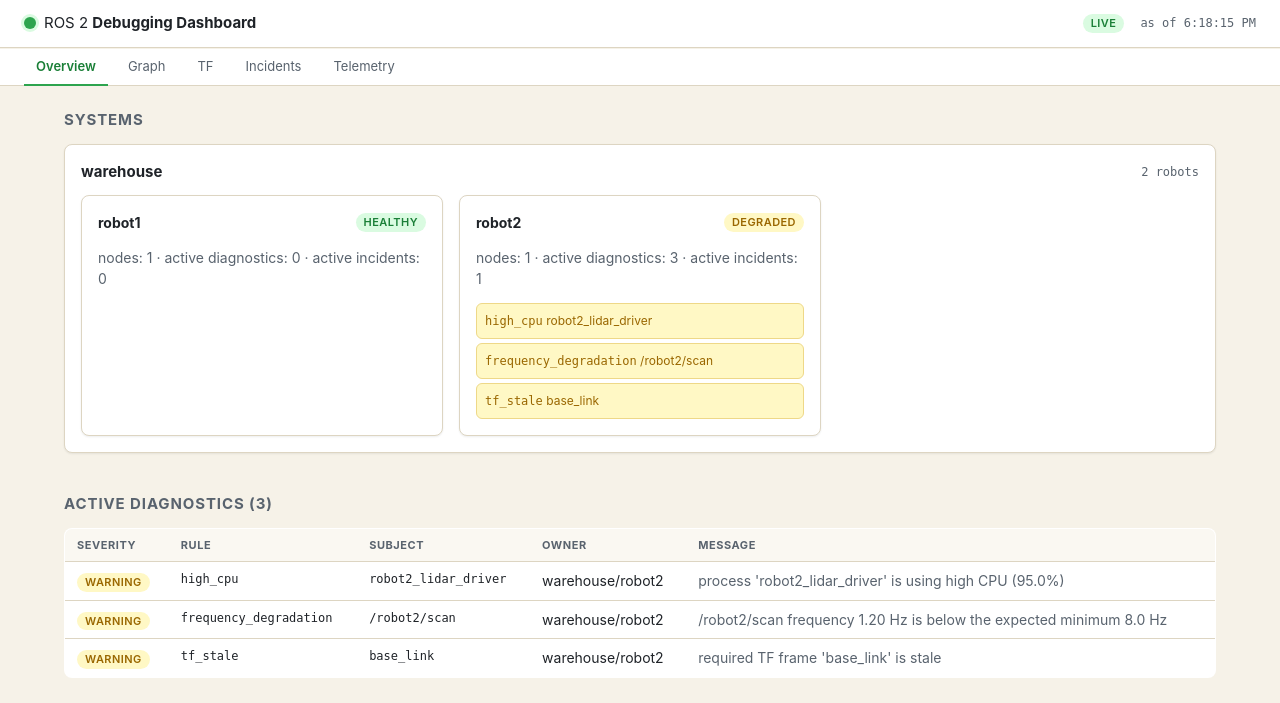
Scenario: App › navigates to the incidents view showing history
The image size is (1280, 703).
Expected: the text "LIVE" is shown, [1083,14,1124,32]
Click the link "Incidents" at (274, 65), box [246,57,302,73]
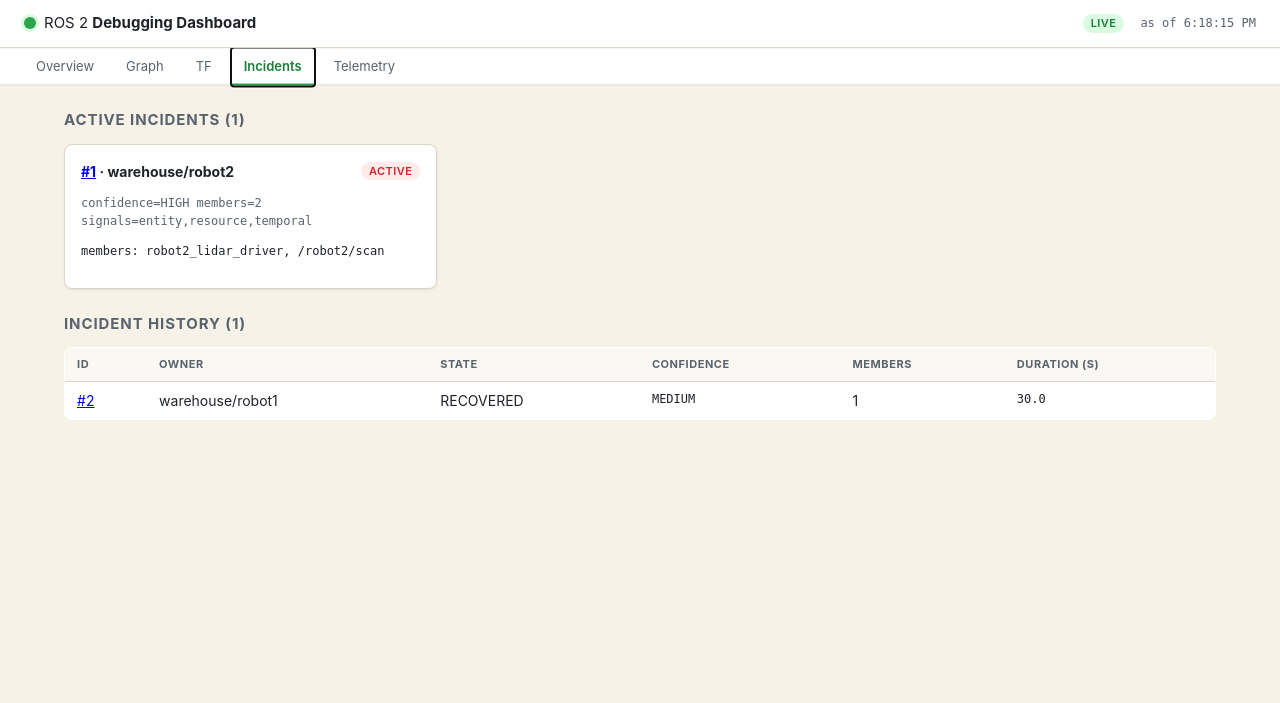
Expected: the heading "Incident history (1)" is shown, [64,314,246,332]
Expected: the text "RECOVERED" is shown, [428,381,640,419]
